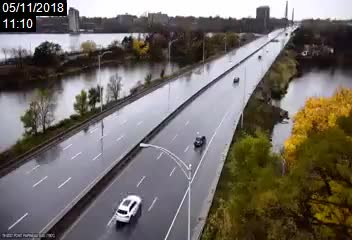personal_car: (114, 194, 143, 225), (194, 135, 206, 148), (233, 76, 240, 84)
